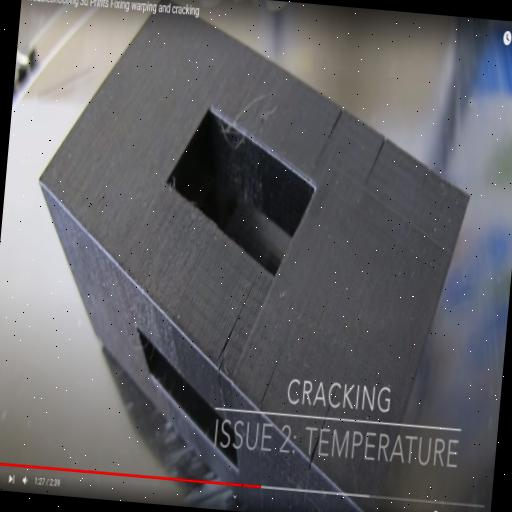cracks: (320, 86, 395, 200), (206, 276, 258, 400)
